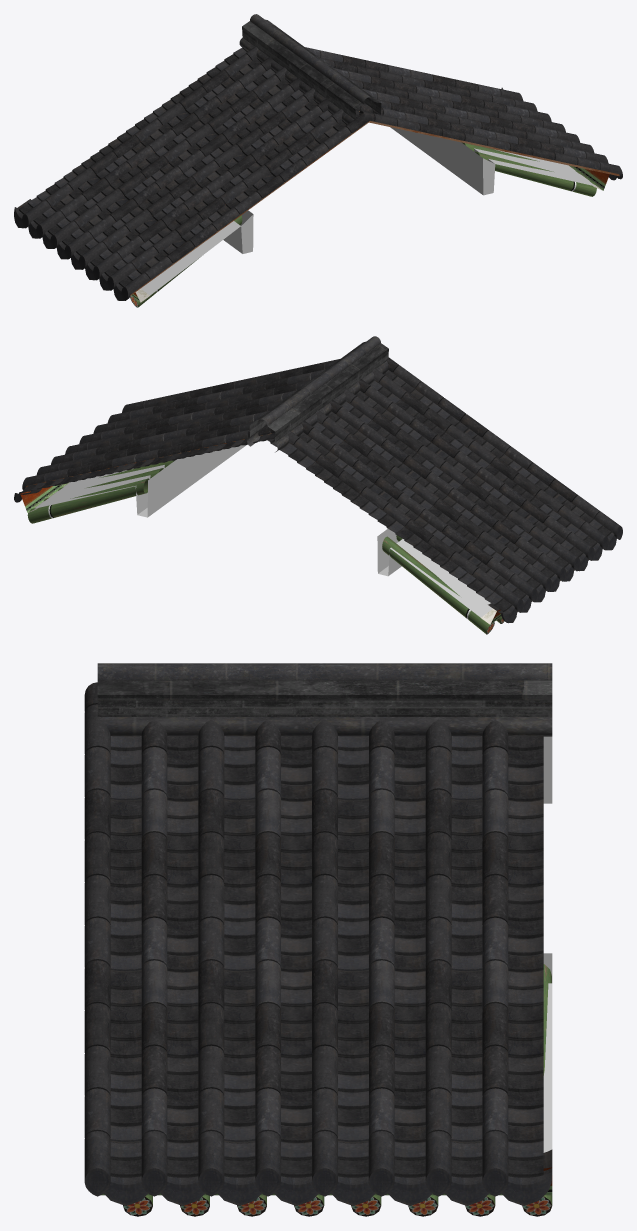
The model's file is SM_Giwa08D.fbx.
3 views of the same model, one above another, from view 1: azimuth 30°, elevation 25°; view 2: azimuth 150°, elevation 25°; view 3: azimuth 270°, elevation 25° (orthographic). The views are drawn at different scales.
Parts seen in each view (by area): view 1: SM_Giwa08D; view 2: SM_Giwa08D; view 3: SM_Giwa08D.
Part boxes in pixels (x1,y1,x2,y2): SM_Giwa08D: [14, 14, 622, 307]; SM_Giwa08D: [14, 336, 622, 634]; SM_Giwa08D: [84, 663, 552, 1216].
Size of the model in its own units: 619 by 253 by 194.
